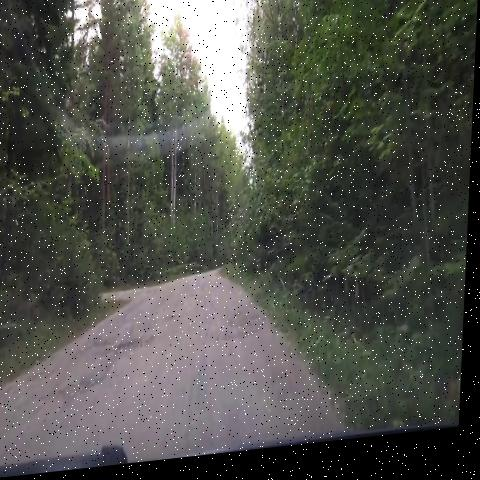pothole: (58, 366, 114, 412), (213, 323, 268, 363), (106, 340, 161, 370), (92, 332, 120, 362), (28, 368, 67, 389)
